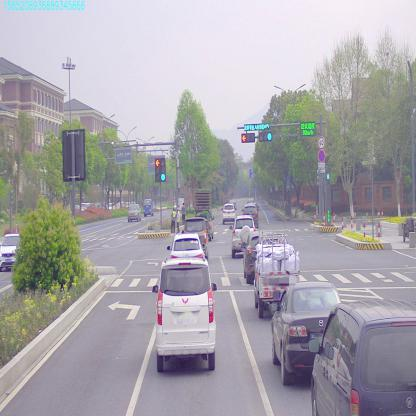traffic-light: (242, 121, 270, 132), (240, 134, 256, 144), (258, 133, 272, 144)
